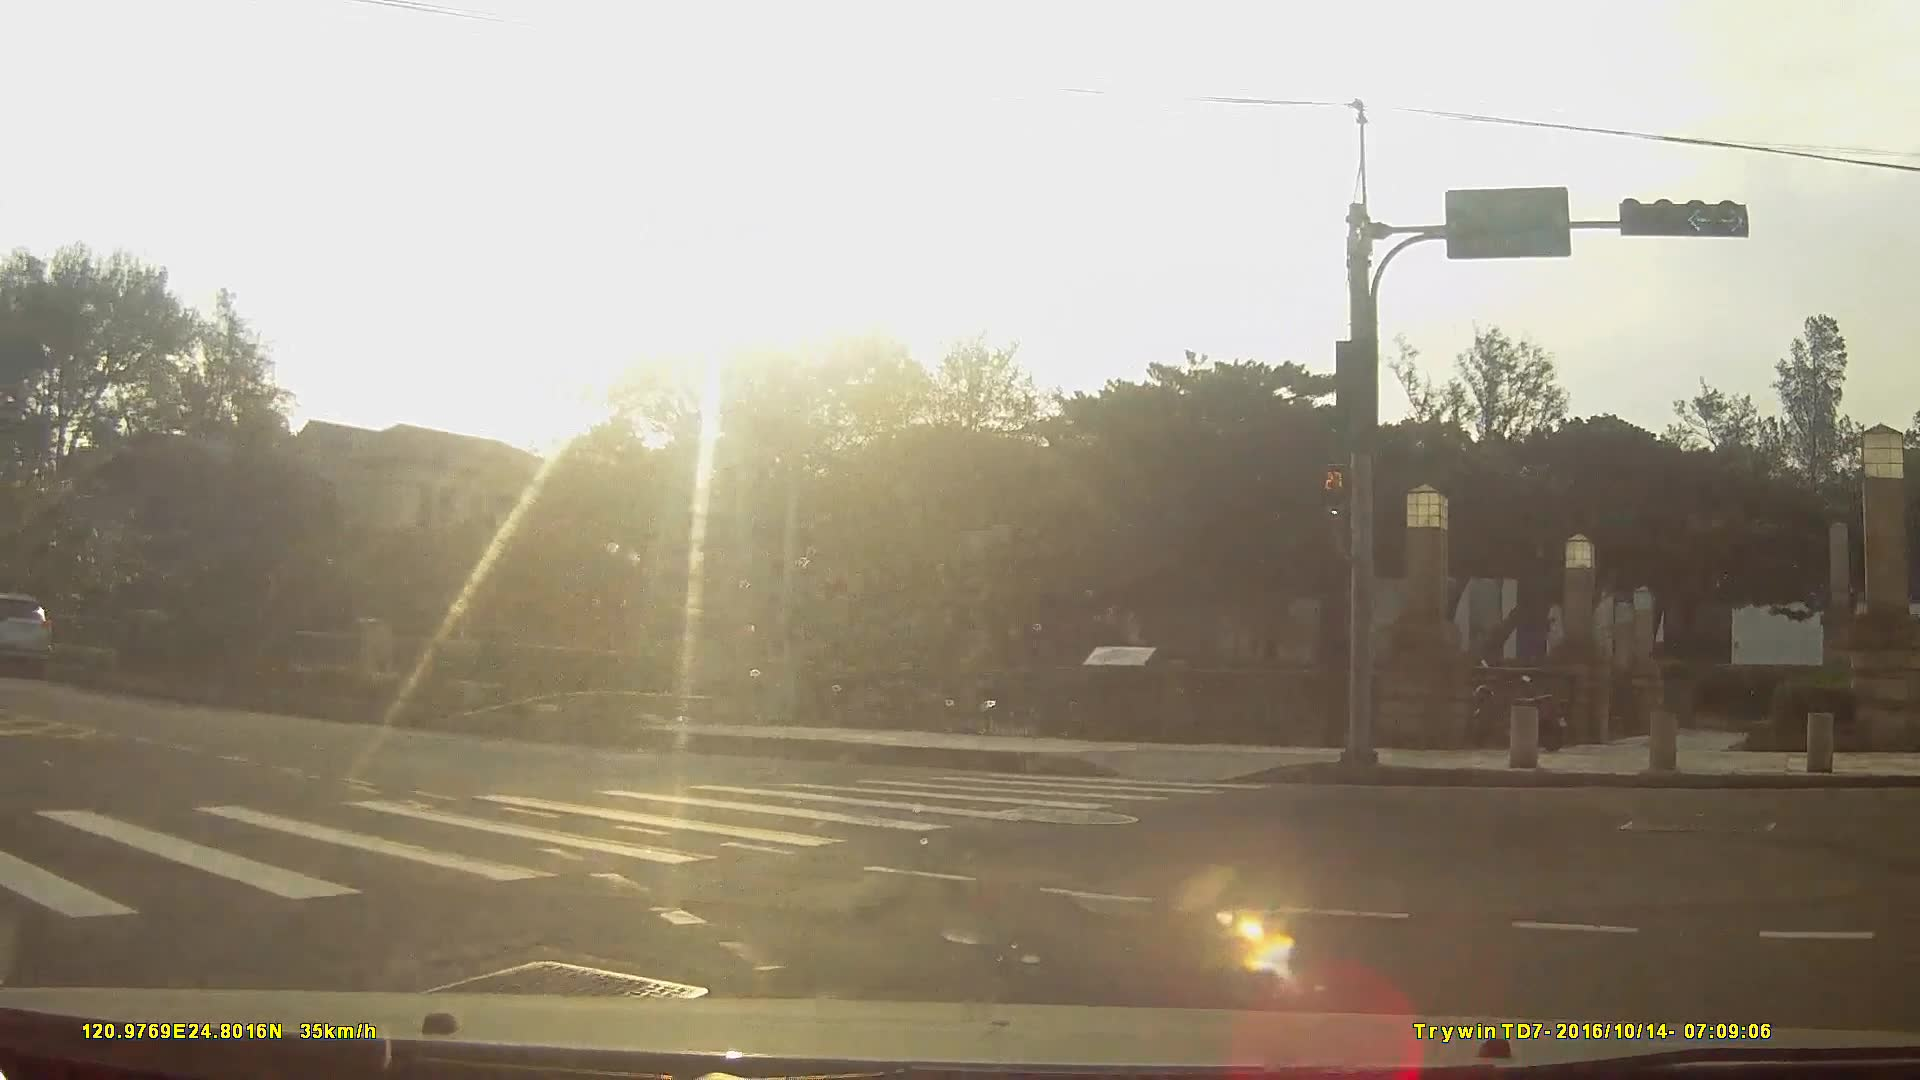vehicle: (0, 589, 54, 679)
